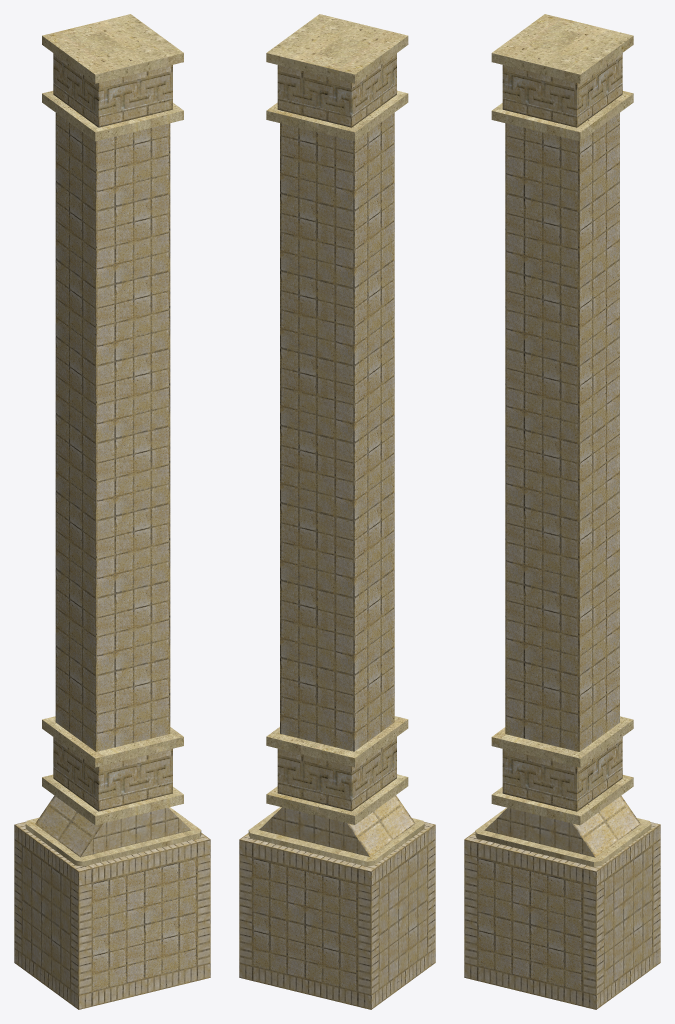
Rendered from bridge_structure_pillar_top.dae.
3 views of the same model, side by side, from view 1: azimuth 30°, elevation 25°; view 2: azimuth 150°, elevation 25°; view 3: azimuth 330°, elevation 25° (orthographic).
Visible parts, largest first — view 1: bridge_structure_pillar_top; view 2: bridge_structure_pillar_top; view 3: bridge_structure_pillar_top.
Part boxes in pixels (<box>): bridge_structure_pillar_top: <box>14,14,210,1009</box>; bridge_structure_pillar_top: <box>239,14,435,1009</box>; bridge_structure_pillar_top: <box>464,14,660,1009</box>.
Size of the model in its own units: 7.26 by 6.13 by 48.64.
Materials: 4 (4 with a texture image).
